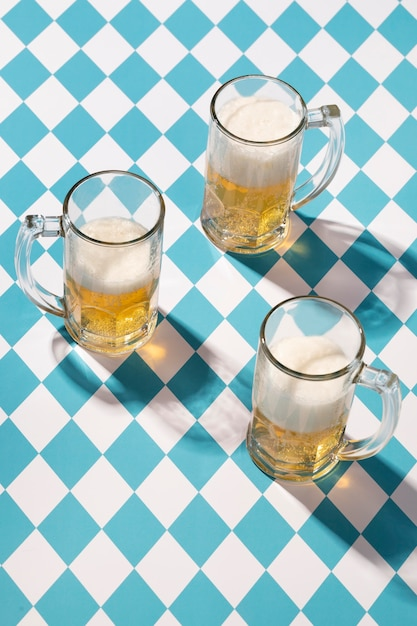alcohol: (247, 295, 401, 482), (14, 167, 166, 353), (204, 69, 344, 257)
